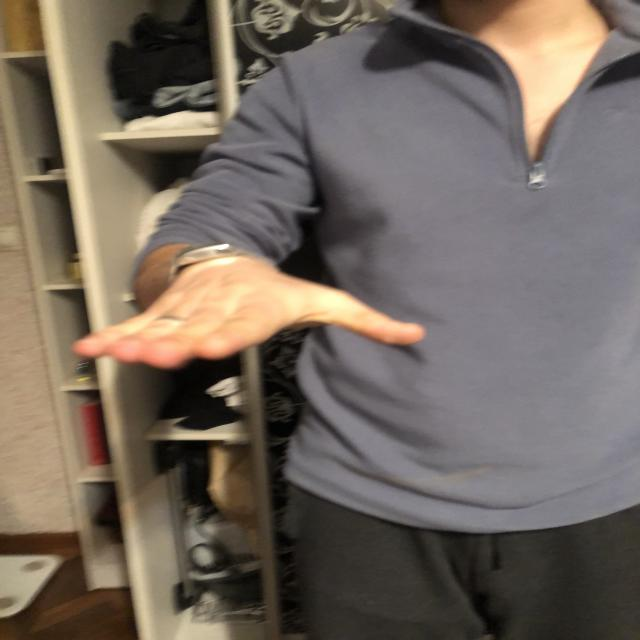paper: (79, 273, 424, 363)
